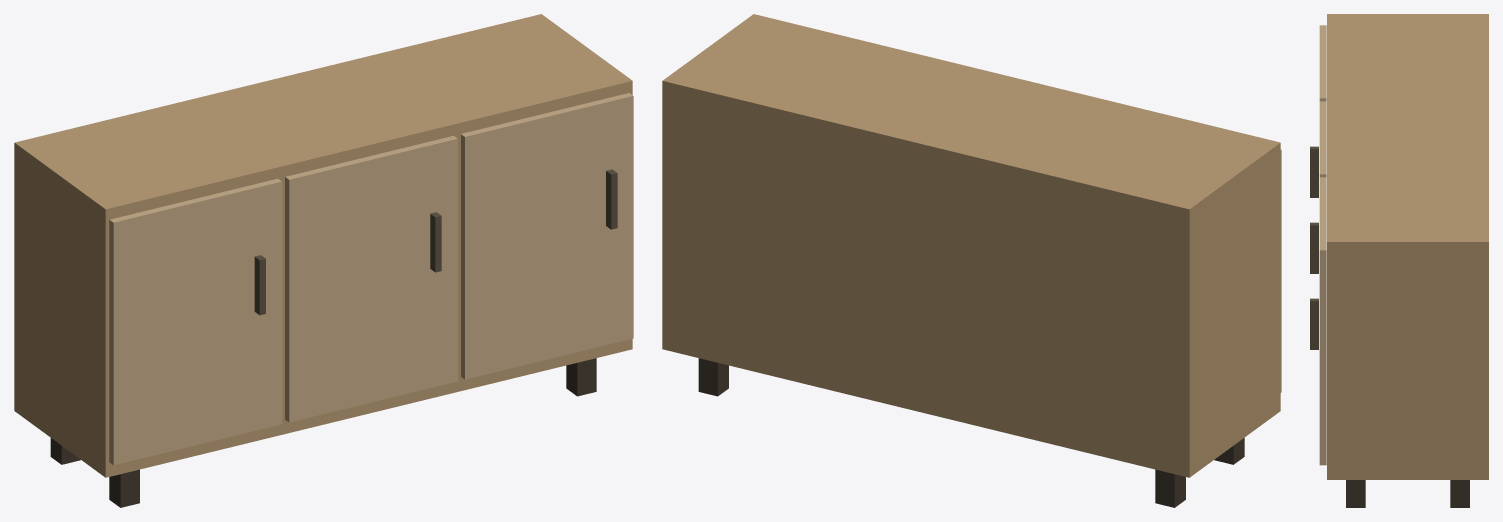
File: cabinet.glb
The picture shows the model from 3 angles, left to right: view 1: azimuth 30°, elevation 25°; view 2: azimuth 150°, elevation 25°; view 3: azimuth 270°, elevation 25°; orthographic projection. The views are drawn at different scales.
Bounding box in the file's own units: 1.5 × 0.85 × 0.4975.
